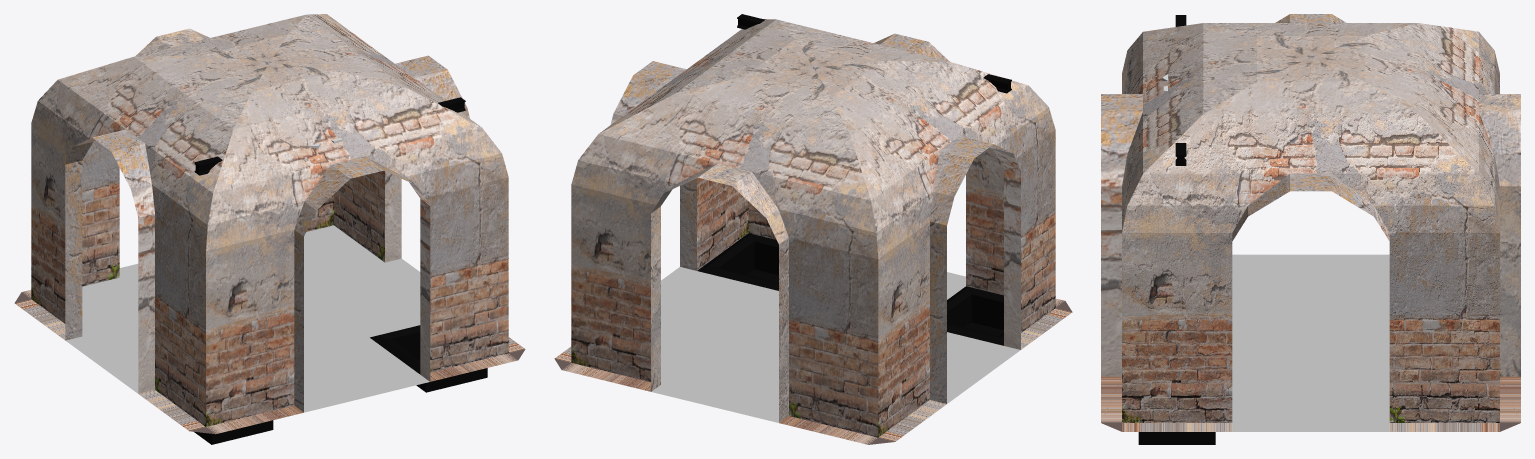
The model's file is MAZE-ELEMENTS-cross-2-arm.fbx.
3 views of the same model, side by side, from view 1: azimuth 30°, elevation 25°; view 2: azimuth 150°, elevation 25°; view 3: azimuth 270°, elevation 25° (orthographic). The views are drawn at different scales.
Parts seen in each view (by area): view 1: cross-2, rail; view 2: cross-2, rail; view 3: cross-2.
Boxes of the visible parts, x1,y1,x2,y2 form: cross-2: (14,14,525,444); rail: (194,97,465,175); cross-2: (554,19,1072,444); rail: (737,14,1011,93); cross-2: (1101,14,1520,444).
Bounding box in the file's own units: 400 × 330 × 400.
